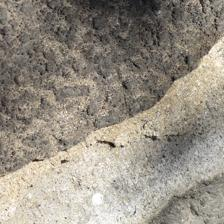Crack: (4, 112, 135, 184), (139, 34, 223, 116)
